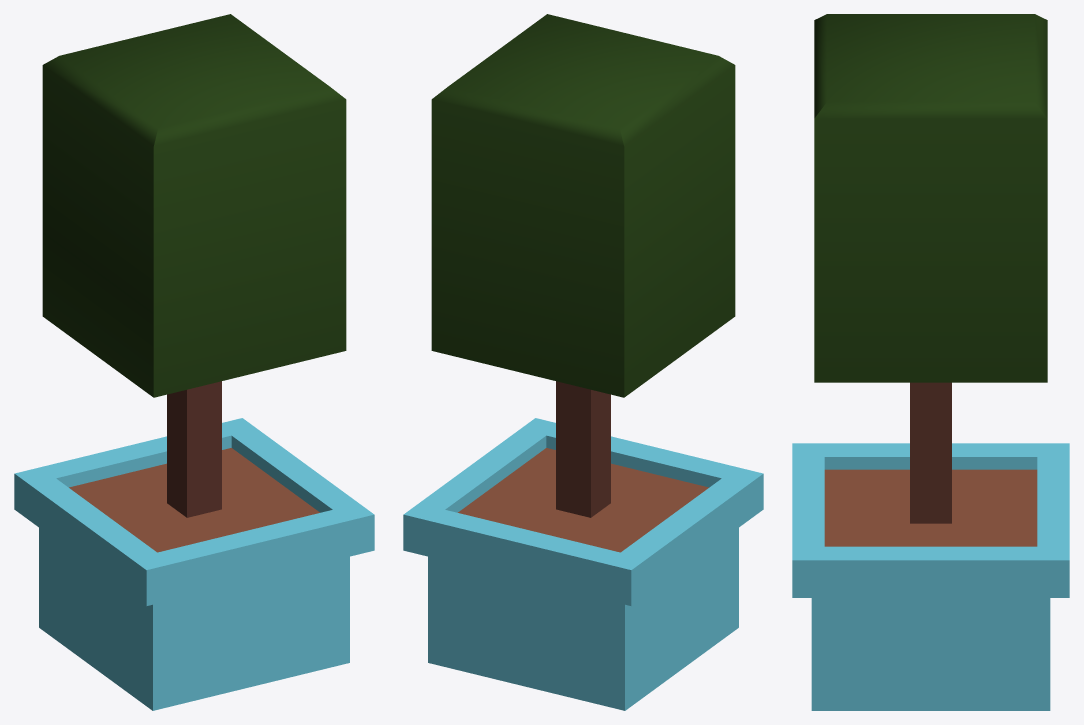
The picture shows the model from 3 angles, left to right: view 1: azimuth 30°, elevation 25°; view 2: azimuth 150°, elevation 25°; view 3: azimuth 270°, elevation 25°; orthographic projection. The views are drawn at different scales.
Parts seen in each view (by area): view 1: D; view 2: D; view 3: D.
Boxes of the visible parts, <box> form: D: <box>14,14,374,710</box>; D: <box>403,14,763,710</box>; D: <box>792,14,1069,710</box>.
Bounding box in the file's own units: 81.37 × 196 × 81.62.
